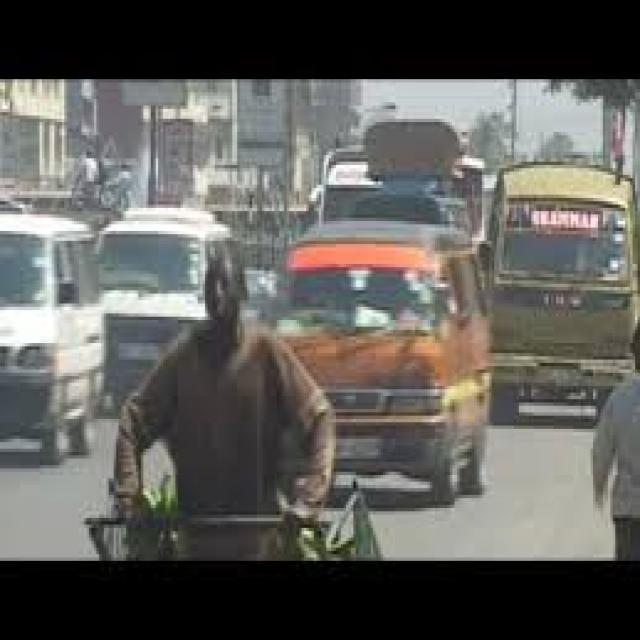matatu: (335, 223, 496, 494), (1, 205, 103, 455), (104, 204, 210, 334)
